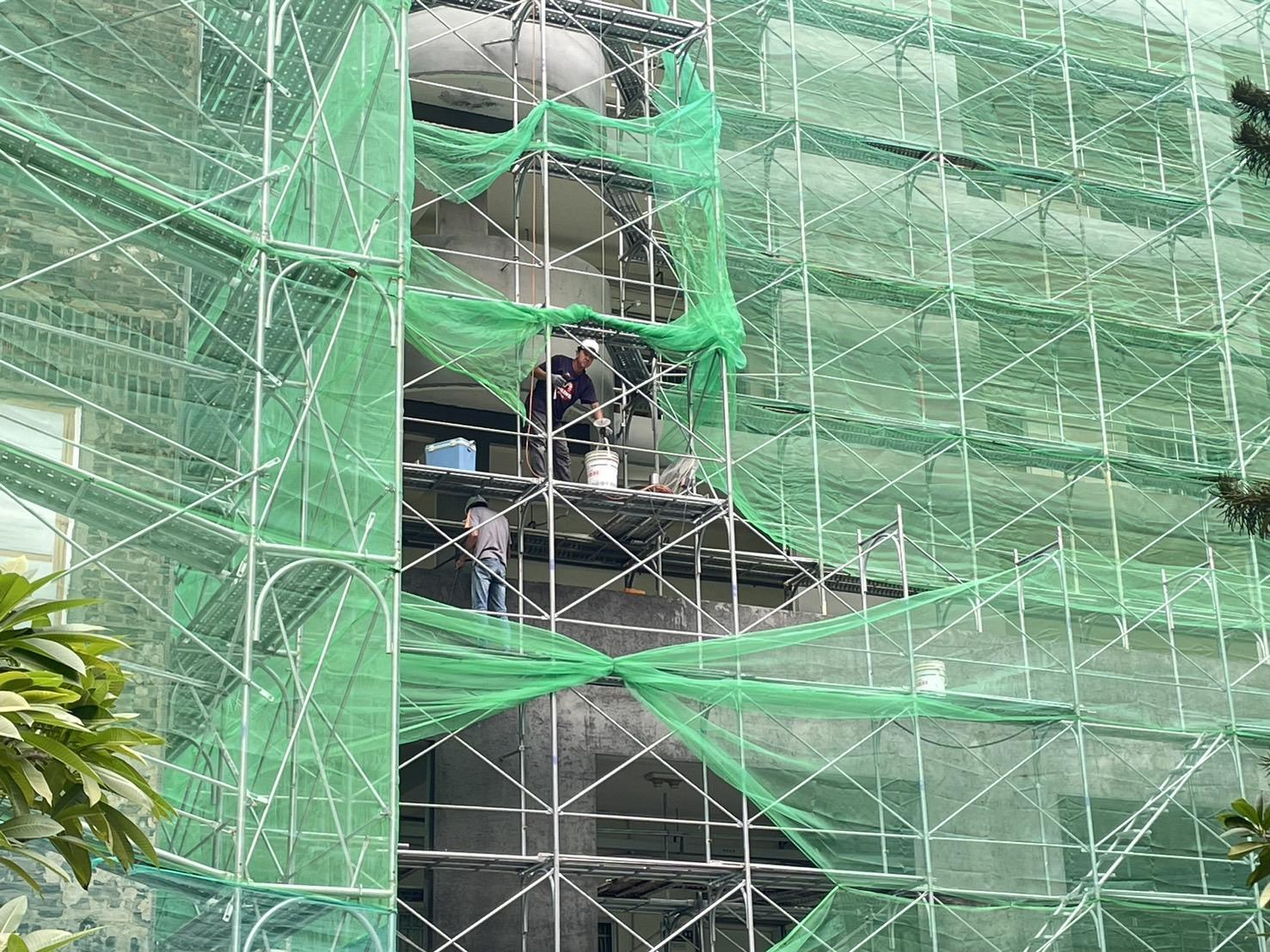Helmet: (576, 339, 601, 358)
